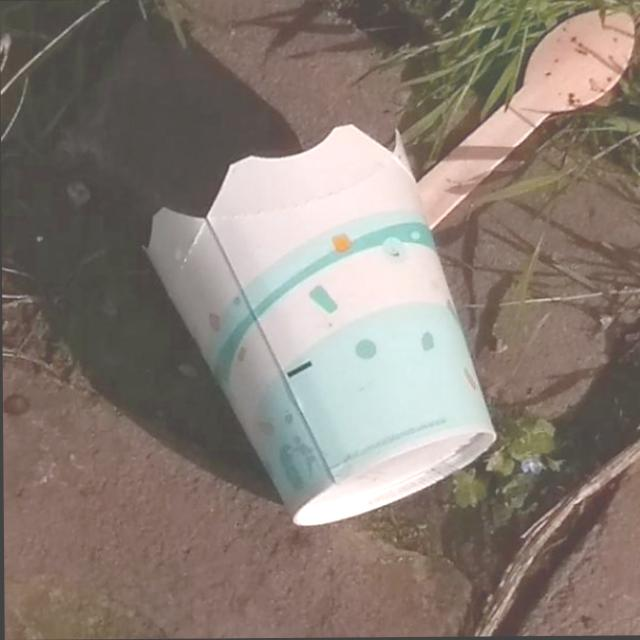Paper: (133, 118, 500, 530)
